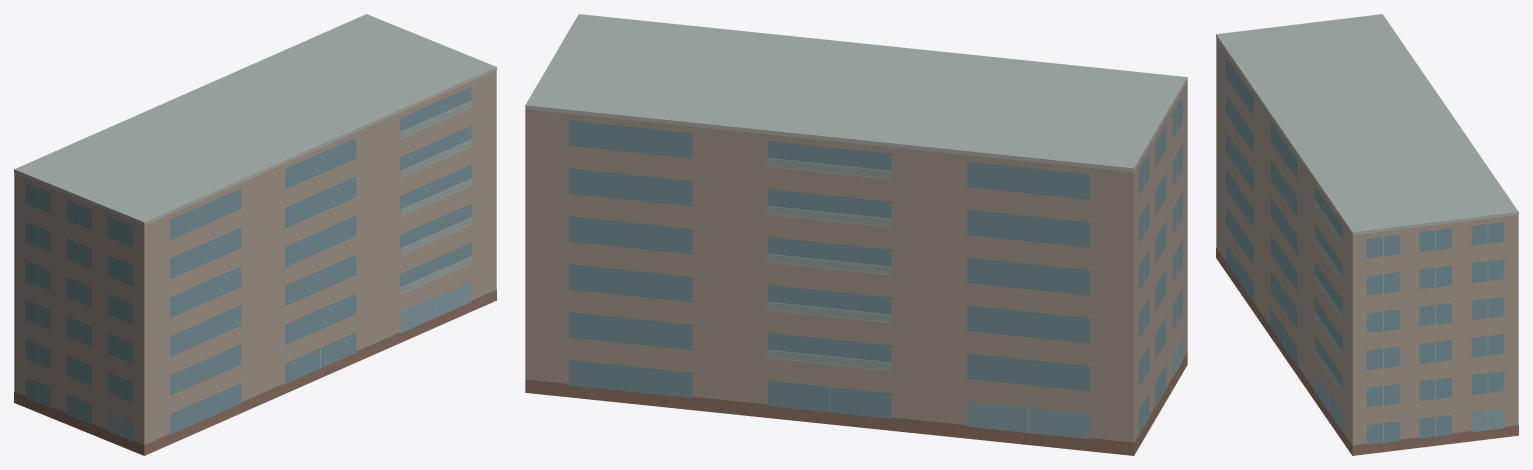
File: survey-upis-32717007.glb
3 renders of one model, left to right at view 1: azimuth 30°, elevation 25°; view 2: azimuth 150°, elevation 25°; view 3: azimuth 270°, elevation 25°, orthographic. The views are drawn at different scales.
Visible parts, largest first — view 1: survey-upis-32717007.tmp; view 2: survey-upis-32717007.tmp; view 3: survey-upis-32717007.tmp.
Part boxes in pixels (<box>): survey-upis-32717007.tmp: <box>14,14,496,455</box>; survey-upis-32717007.tmp: <box>525,14,1187,455</box>; survey-upis-32717007.tmp: <box>1216,14,1518,455</box>.
Bounding box in the file's own units: 37.25 × 17.8 × 21.84.
